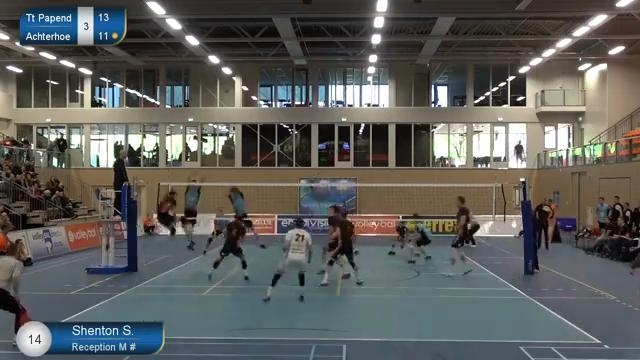Attack: (147, 185, 190, 246)
Block: (216, 171, 268, 250), (175, 169, 208, 254)
Player: (263, 218, 311, 301), (320, 215, 363, 285), (208, 220, 248, 280), (322, 205, 345, 263), (451, 196, 469, 264), (203, 208, 229, 254), (406, 222, 430, 263), (388, 221, 408, 254), (465, 212, 480, 247)
